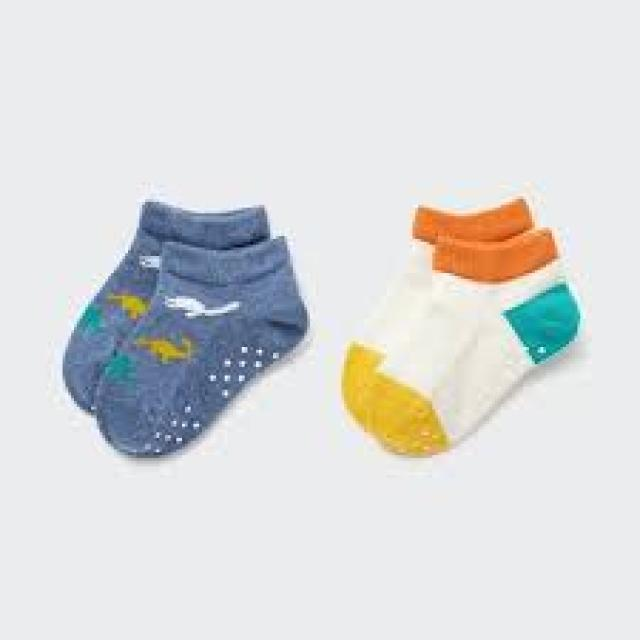sock: (339, 193, 583, 458), (60, 196, 270, 412)
